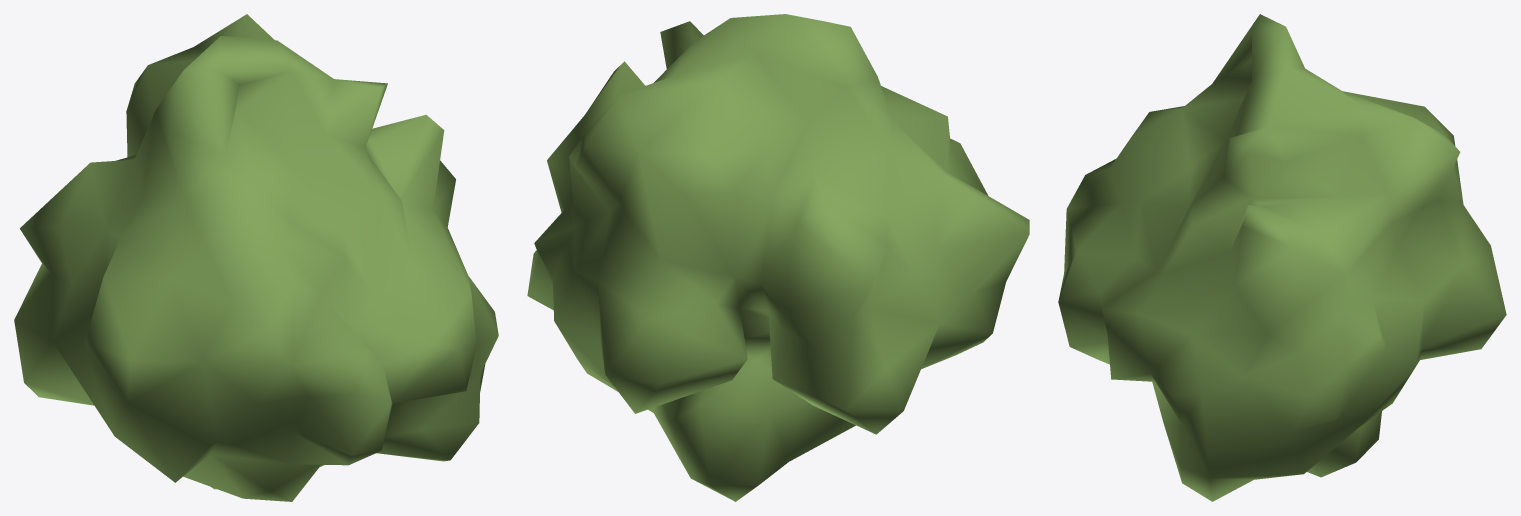
File: MiinBloodPlasma_Ceruloplasmin_4enz_0_1_0.dae
The picture shows the model from 3 angles, left to right: view 1: azimuth 30°, elevation 25°; view 2: azimuth 150°, elevation 25°; view 3: azimuth 270°, elevation 25°; orthographic projection. The views are drawn at different scales.
Parts seen in each view (by area): view 1: CoarseMS_4enz; view 2: CoarseMS_4enz; view 3: CoarseMS_4enz.
Part boxes in pixels (x1,y1,x2,y2): CoarseMS_4enz: [14, 14, 498, 501]; CoarseMS_4enz: [527, 14, 1029, 501]; CoarseMS_4enz: [1058, 14, 1506, 501].
Bounding box in the file's own units: 86.69 × 91.49 × 86.19.
